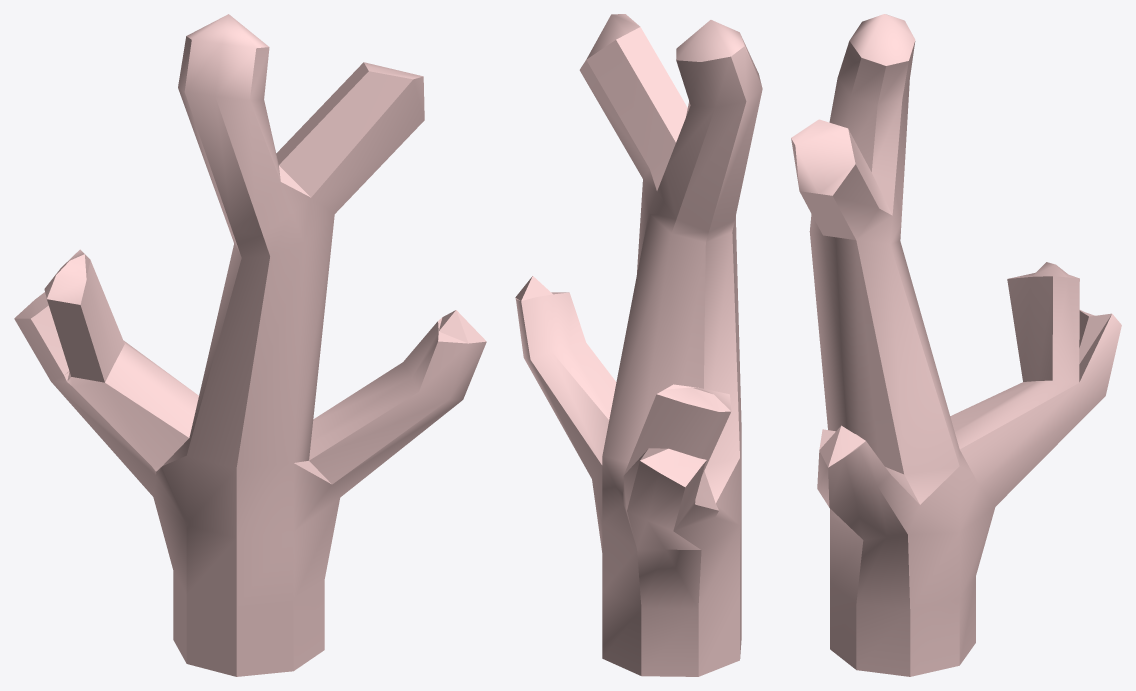
Rendered from coral.gltf.
3 renders of one model, left to right at view 1: azimuth 30°, elevation 25°; view 2: azimuth 150°, elevation 25°; view 3: azimuth 270°, elevation 25°, orthographic. The views are drawn at different scales.
Visible parts, largest first — view 1: Cylinder; view 2: Cylinder; view 3: Cylinder.
Boxes of the visible parts, x1,y1,x2,y2 form: Cylinder: (14, 14, 486, 676); Cylinder: (515, 14, 762, 676); Cylinder: (791, 14, 1121, 676).
Bounding box in the file's own units: 125 × 232 × 113.
